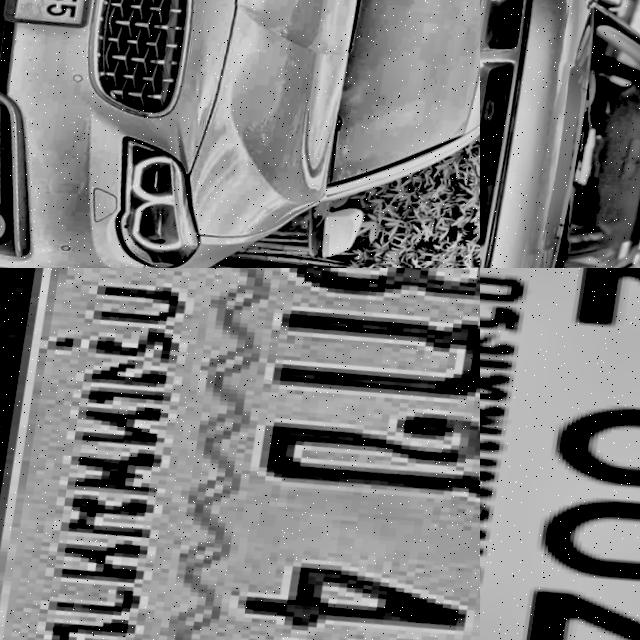license-plate: (0, 268, 480, 640), (480, 268, 640, 640), (0, 0, 110, 37)
